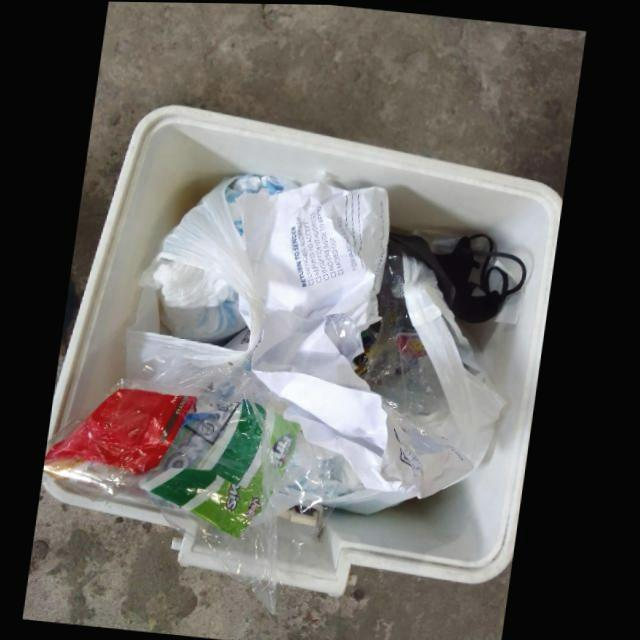paper: (238, 182, 411, 490), (139, 178, 293, 344)
plastic_bag: (49, 365, 352, 611), (370, 252, 451, 417)
plastic_sachet: (47, 387, 202, 474)
